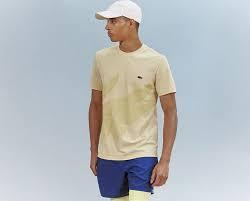Tshirt: (89, 45, 180, 162)
short: (92, 156, 164, 198)
